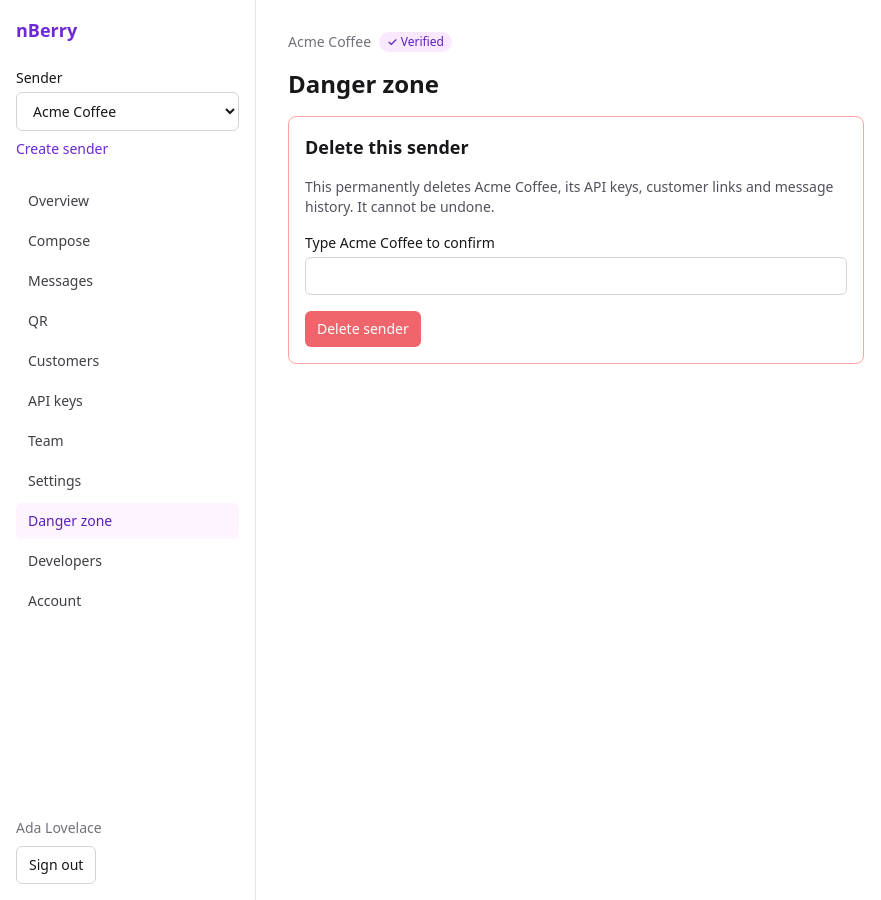
Test case: danger zone › confirm_mismatch shows copy
Type "Acme Coffee" into the field labelled "Type Acme Coffee to confirm".
click(576, 276); type("Acme Coffee")  # box [305,257,847,295]
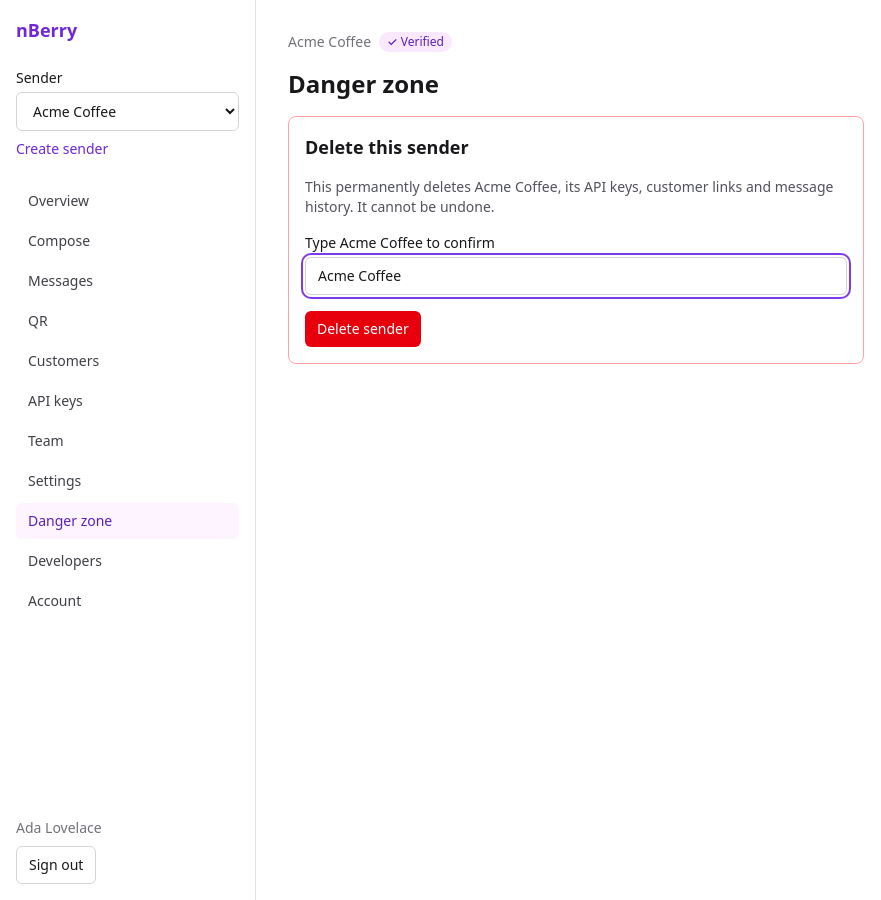
Click the button "Delete sender".
click(363, 329)  # box [305,311,421,347]
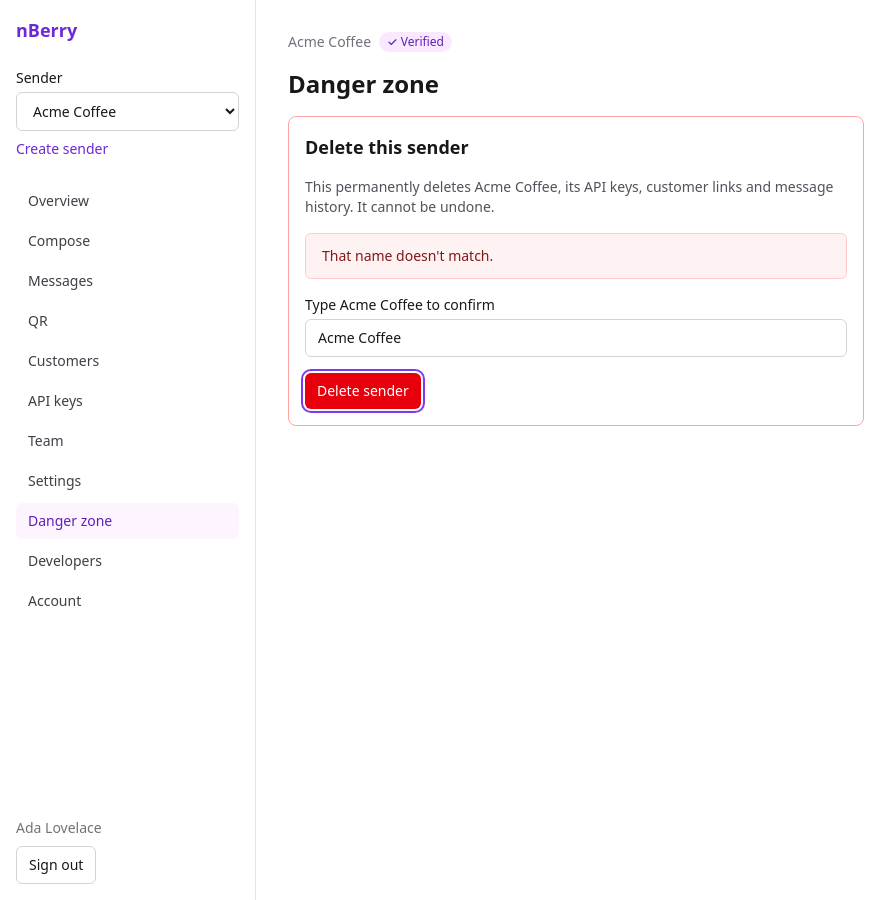
Now the button "Delete sender" is enabled, box [305,373,421,409]
Now the text "That name doesn't match." is shown, box [305,233,847,279]
